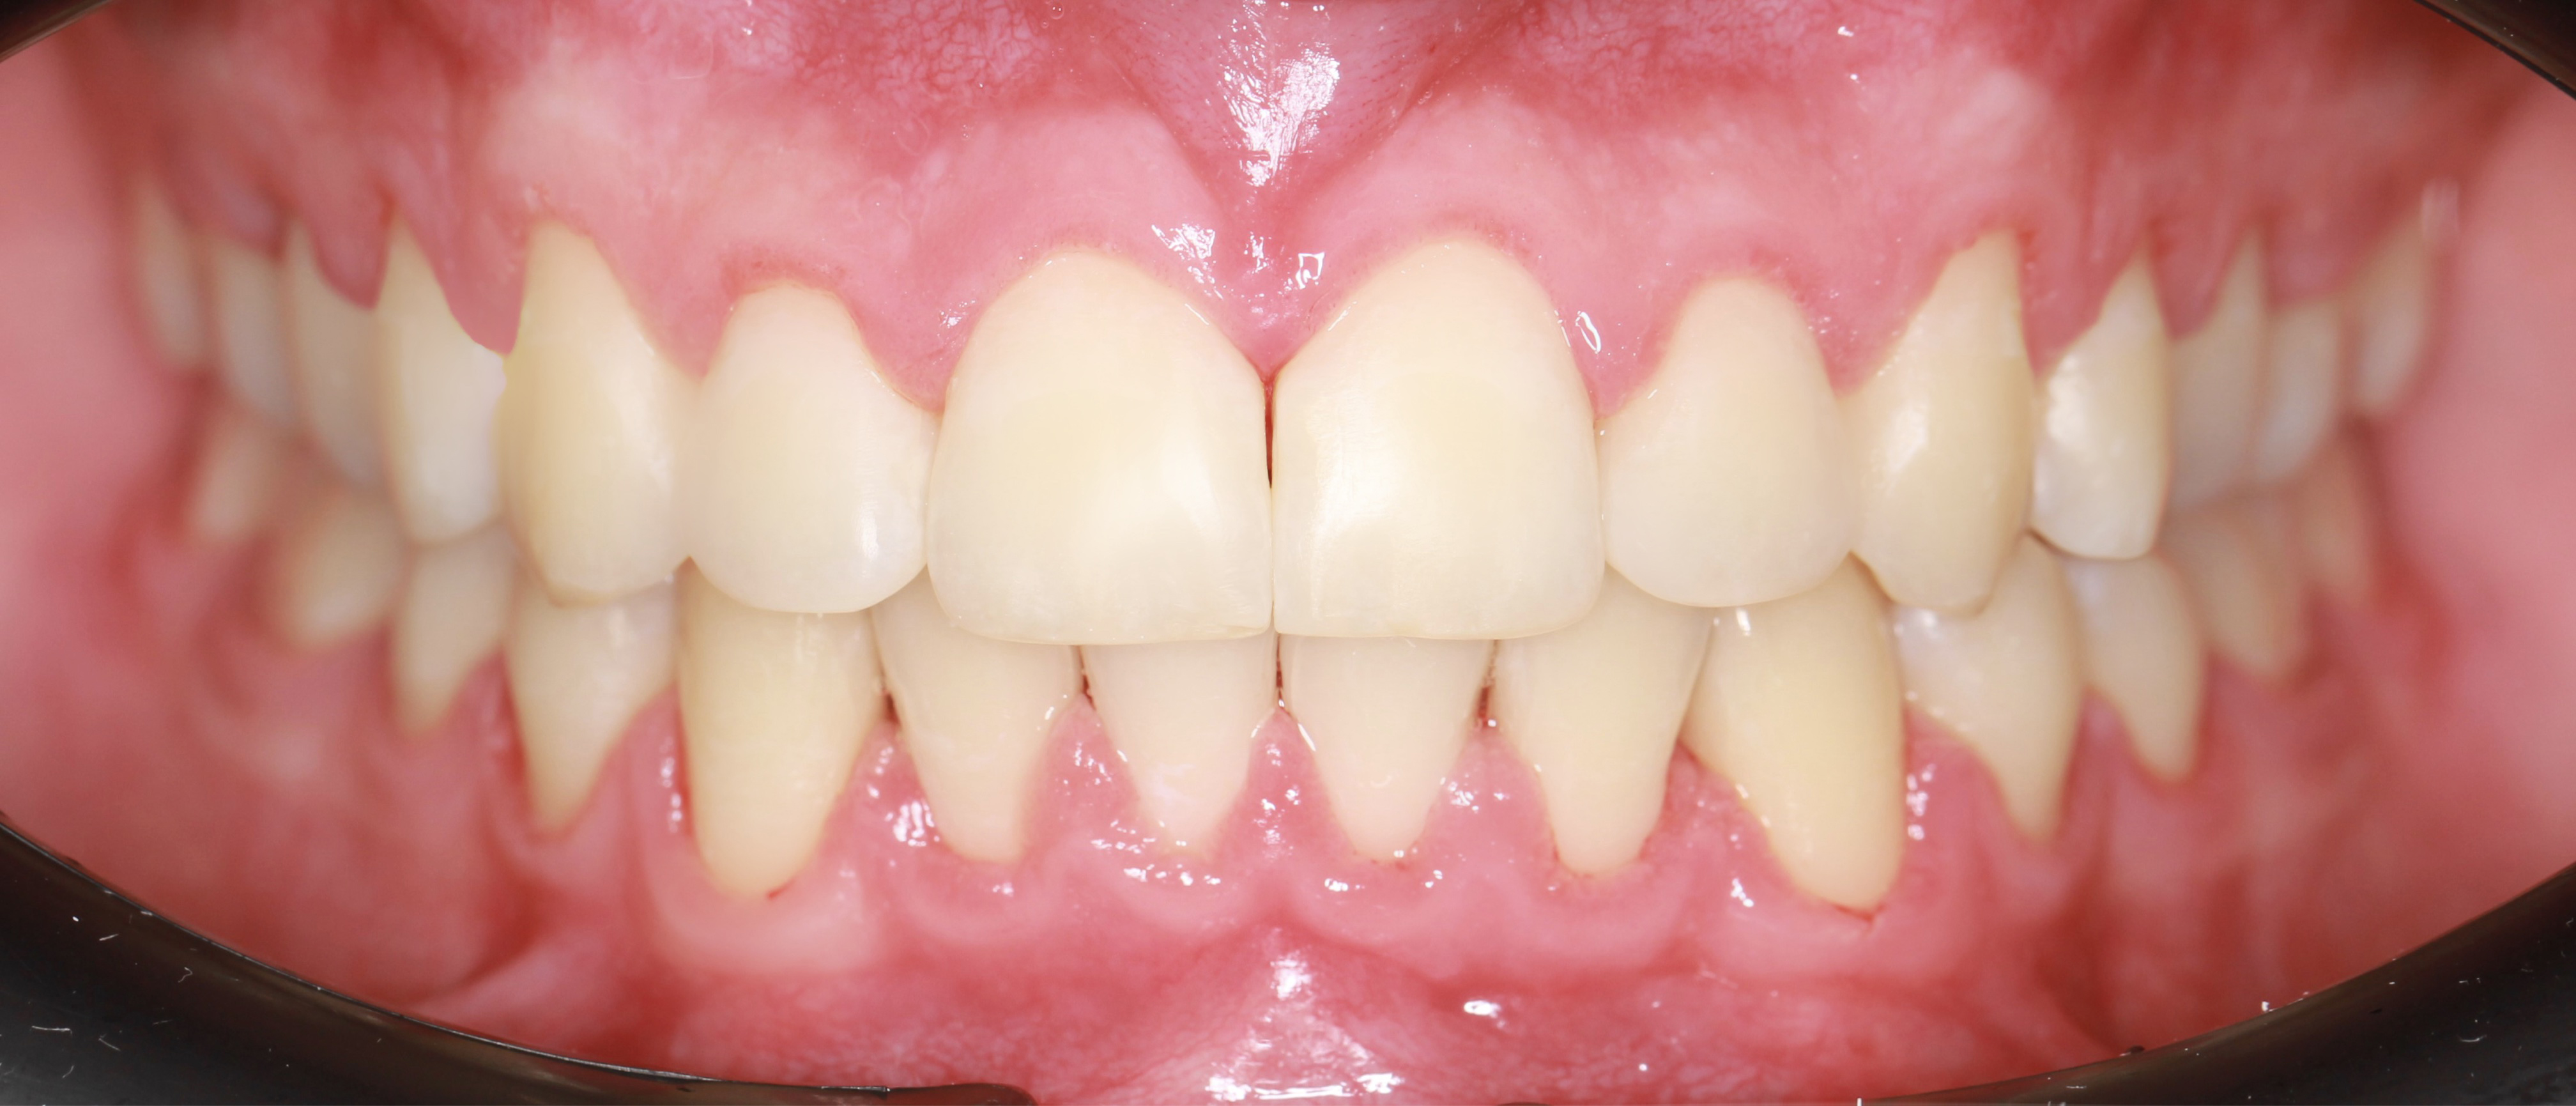LL1BC_healthy: (1897, 587, 2081, 820)
LL2BC_healthy: (2086, 560, 2201, 779)
LLCI_healthy: (1281, 639, 1487, 850)
LLC_healthy: (1697, 595, 1902, 909)
LLLI_healthy: (1493, 616, 1697, 859)
LR1BC_healthy: (501, 605, 674, 838)
LR2BC_healthy: (386, 547, 490, 736)
LRCI_healthy: (1089, 639, 1275, 853)
LRC_healthy: (675, 610, 881, 892)
LRLI_healthy: (874, 631, 1084, 859)
UL1BC_healthy: (2034, 274, 2162, 560)
UL1M_healthy: (2262, 284, 2336, 483)
UL2BC_healthy: (2170, 263, 2262, 511)
UL2M_healthy: (2354, 230, 2435, 417)
ULCI_healthy: (1275, 238, 1600, 639)
ULC_healthy: (1853, 238, 2037, 605)
ULLI_healthy: (1602, 273, 1850, 595)
UR1BC_healthy: (376, 240, 506, 536)
UR1M_healthy: (215, 240, 287, 411)
UR2BC_healthy: (294, 245, 383, 480)
UR2M_healthy: (130, 194, 207, 376)
URCI_healthy: (923, 253, 1273, 641)
URC_healthy: (503, 230, 690, 595)
URLI_healthy: (688, 283, 927, 615)
